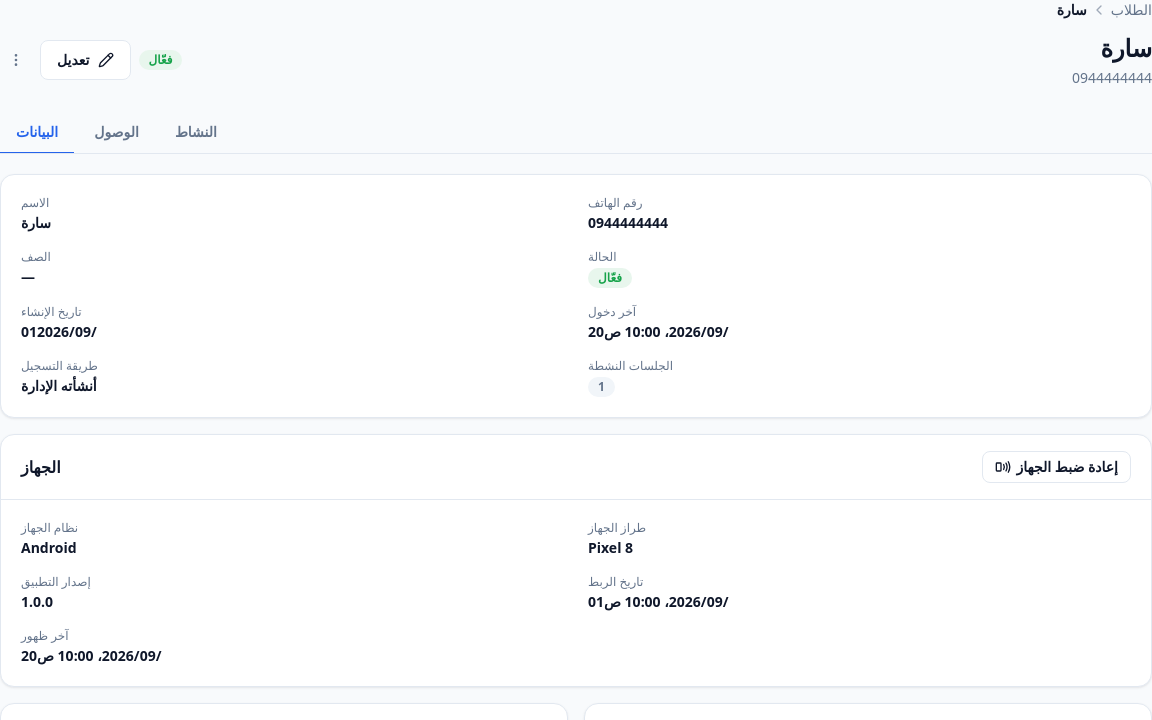
Test: student page permissions › offers device reset (with the required confirmation) to the super admin
Click the button "إعادة ضبط الجهاز" at (1056, 467), box [982,451,1131,483]
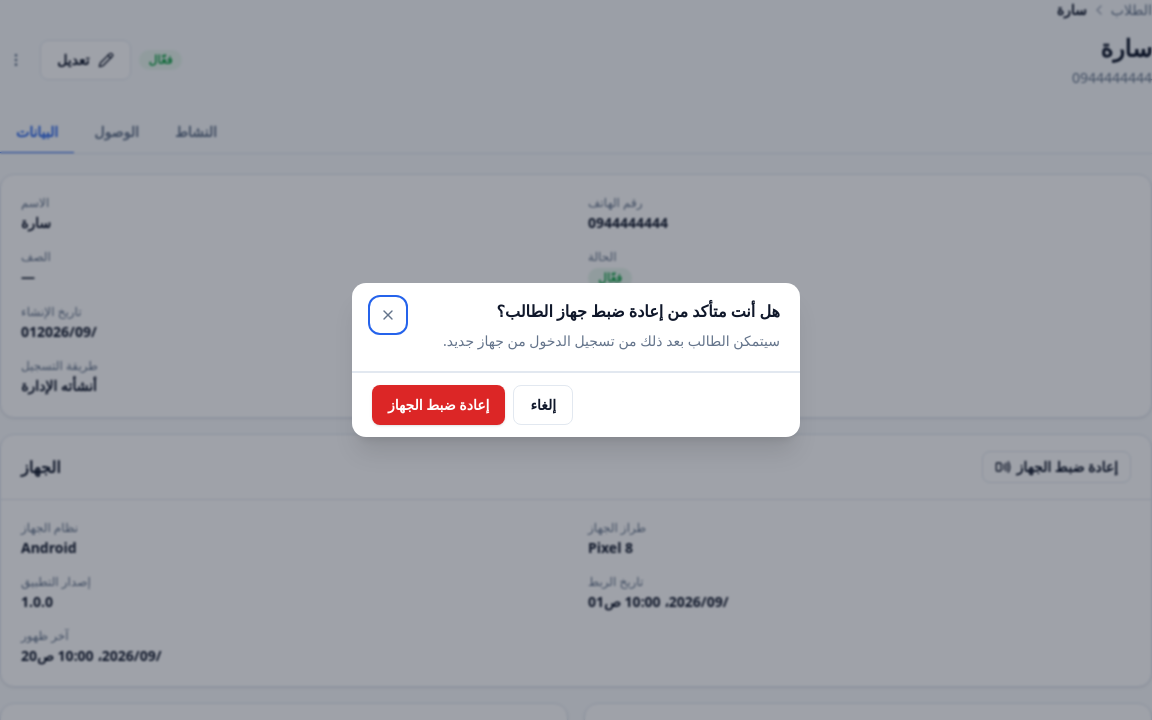
Now the heading "هل أنت متأكد من إعادة ضبط جهاز الطالب؟" is shown, box [496,300,780,322]
Now the text "سيتمكن الطالب بعد ذلك من تسجيل الدخول من جهاز جديد." is shown, box [443,327,780,355]
